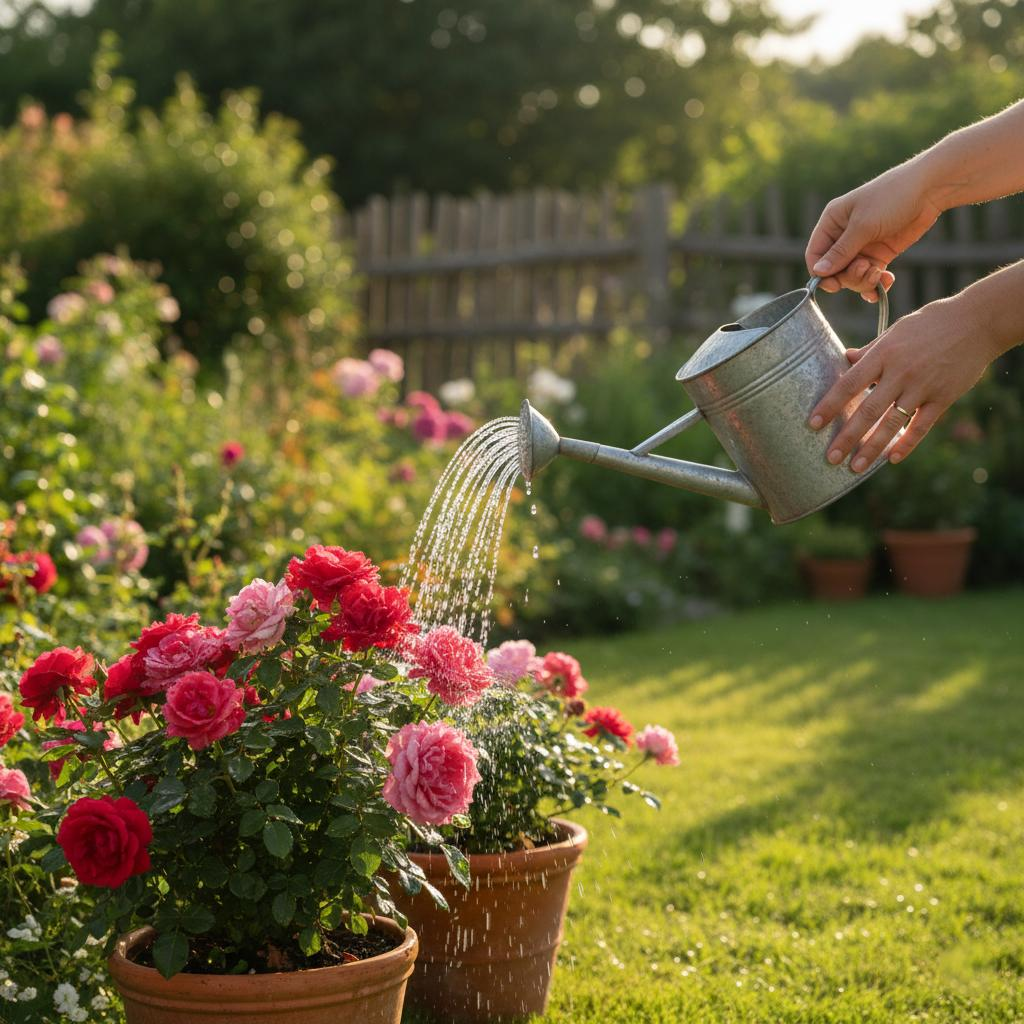rose: (14, 539, 691, 900)
